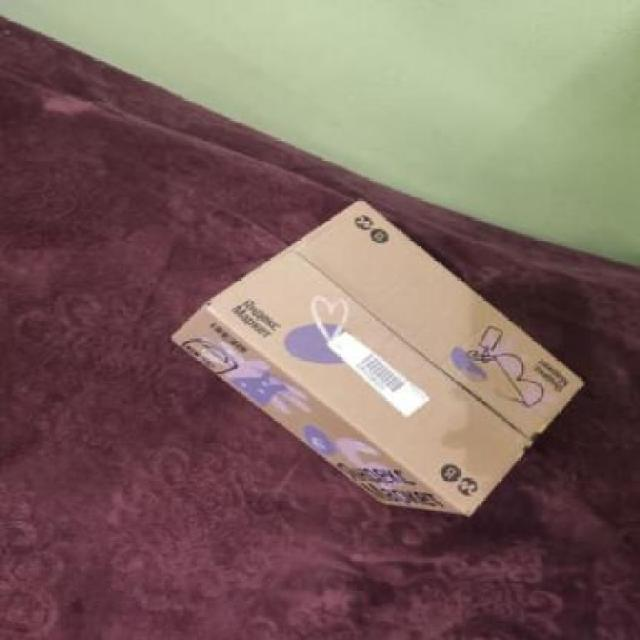box: (171, 180, 584, 534)
